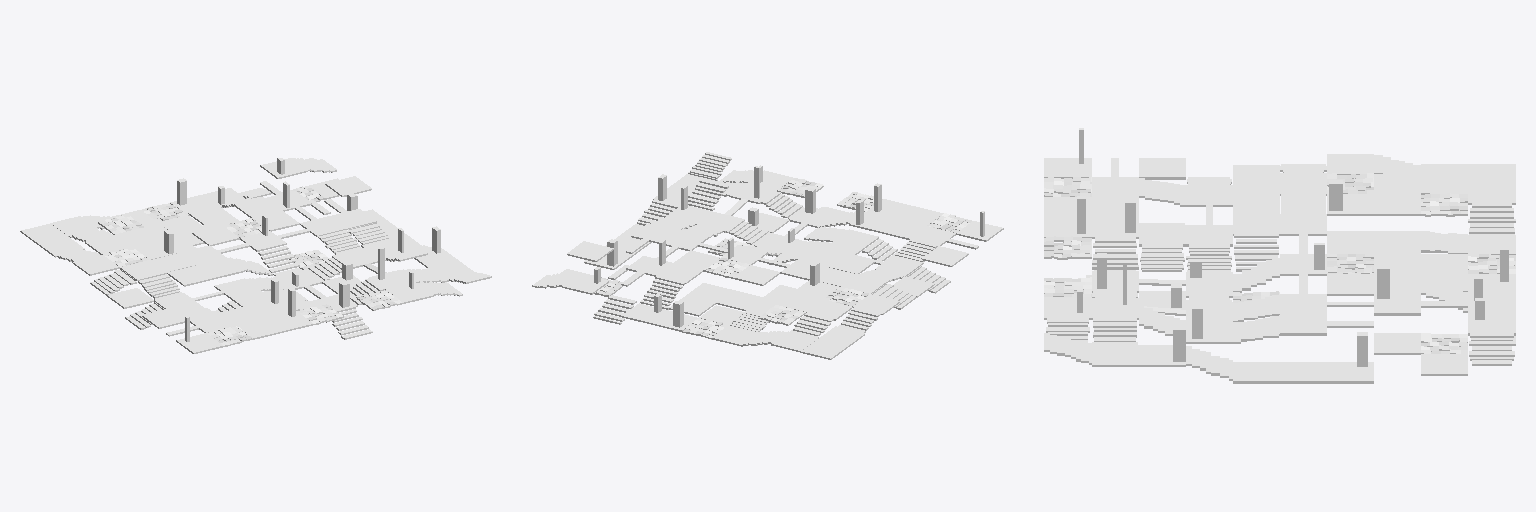
The robot description file, URDF, robot "chair":
<robot name="chair">
  <link name="base_link">
    <visual>
      <origin xyz="0 0 0" rpy="0 0 0" />
      <geometry>
        <mesh filename="package://hpp_environments/meshes/multicontact/random_scene_10x10_V3.stl"/>
      </geometry>
      <material name="white">
        <color rgba="1 1 1 1"/>
      </material>
    </visual>
    <collision>
      <origin xyz="0 0 0" rpy="0 0 0" />
      <geometry>
        <mesh filename="package://hpp_environments/meshes/multicontact/random_scene_10x10_V3.stl"/>
      </geometry>
    </collision>
  </link>
</robot>

--- Render facts (derived) ---
3 views of the same robot in one strip: view 1: azimuth 30°, elevation 25°; view 2: azimuth 150°, elevation 25°; view 3: azimuth 270°, elevation 25° (orthographic).
Robot: chair — 1 links, 0 joints (none); root link base_link; default pose: all joints at 0.
Visible links, largest first — view 1: base_link; view 2: base_link; view 3: base_link.
Link boxes in pixels (left/top/right/bottom): base_link: left=20, top=158, right=491, bottom=353; base_link: left=532, top=152, right=1003, bottom=359; base_link: left=1044, top=128, right=1515, bottom=383.
Bounding box of the posed robot: 20.06 × 20 × 3.42 m (x, y, z).
1 mesh visuals loaded from 1 distinct referenced files (1 binary STL).